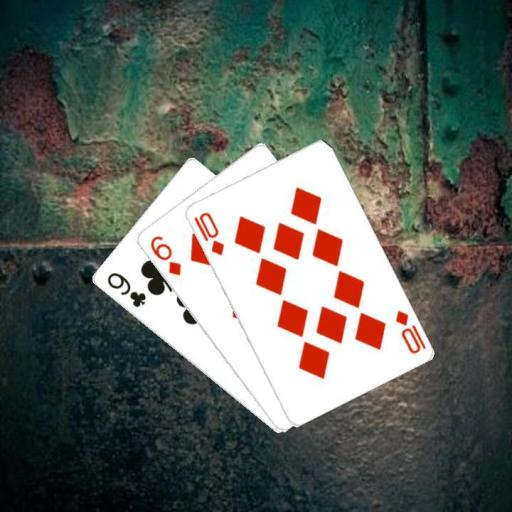10D: (190, 208, 225, 257), (392, 307, 427, 356)
6D: (146, 232, 183, 277)
9C: (103, 269, 147, 309)
